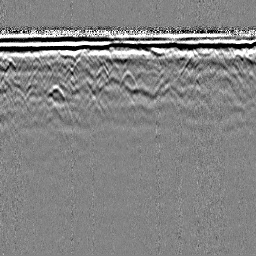cavity: (118, 68, 138, 91)
